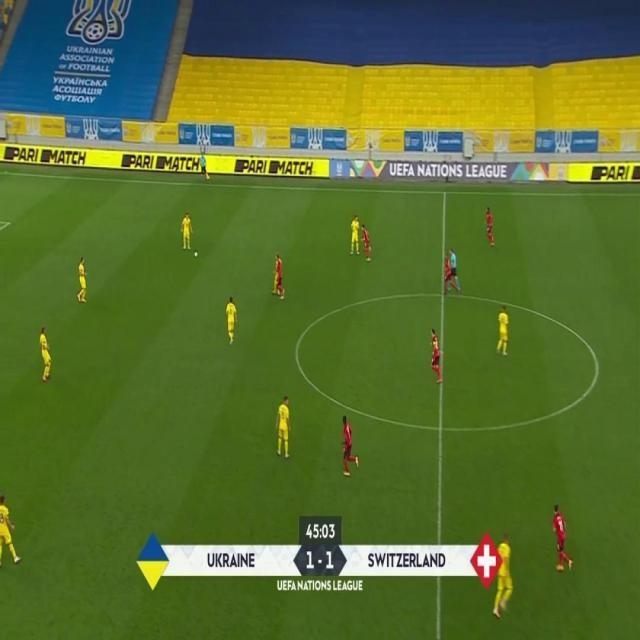ball: (193, 249, 199, 258)
player: (491, 533, 515, 620), (549, 503, 574, 574), (0, 491, 22, 567), (339, 414, 359, 478), (275, 395, 292, 459), (428, 326, 444, 385), (37, 326, 53, 383), (494, 304, 510, 356), (270, 252, 286, 299), (224, 294, 238, 344), (75, 255, 89, 304), (349, 215, 363, 257), (359, 220, 373, 261), (180, 211, 194, 250), (484, 206, 497, 247), (442, 253, 453, 296)
referee: (449, 247, 461, 296), (199, 151, 210, 181)
